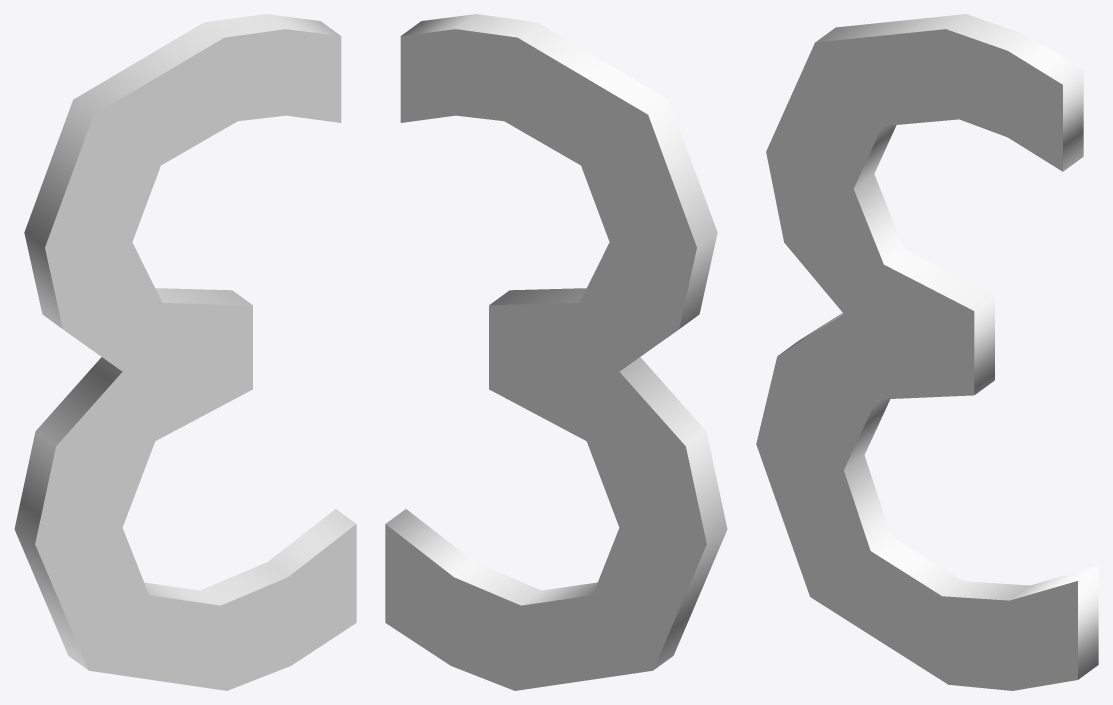
Rendered from Three.obj.
3 views of the same model, side by side, from view 1: azimuth 30°, elevation 25°; view 2: azimuth 150°, elevation 25°; view 3: azimuth 330°, elevation 25° (orthographic).
Parts seen in each view (by area): view 1: テキスト; view 2: テキスト; view 3: テキスト.
Part boxes in pixels (x1=…): テキスト: x1=14, y1=14, x2=356, y2=690; テキスト: x1=385, y1=14, x2=727, y2=690; テキスト: x1=756, y1=14, x2=1098, y2=690.
Size of the model in its own units: 0.36 by 0.7 by 0.04.
Materials: 1 (1 with a texture image).
